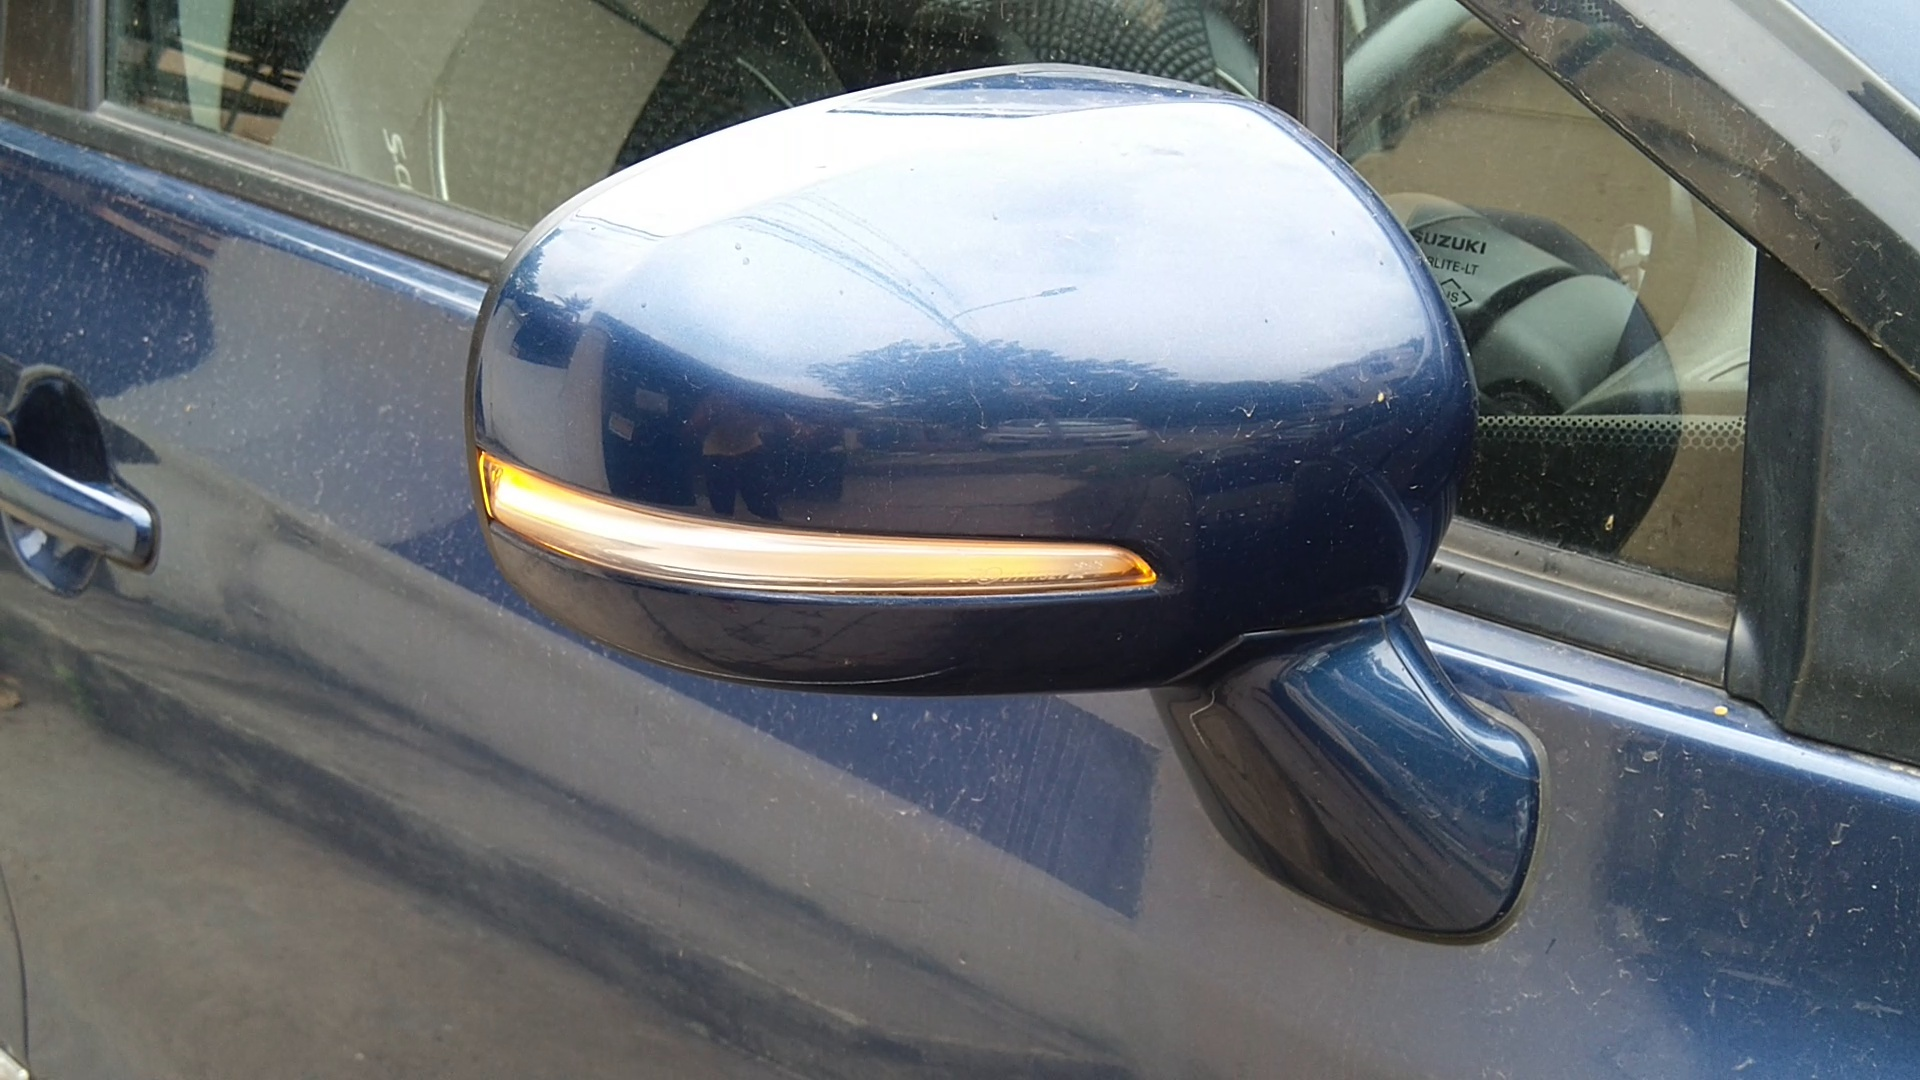ovr_mirror: (419, 42, 1592, 992)
